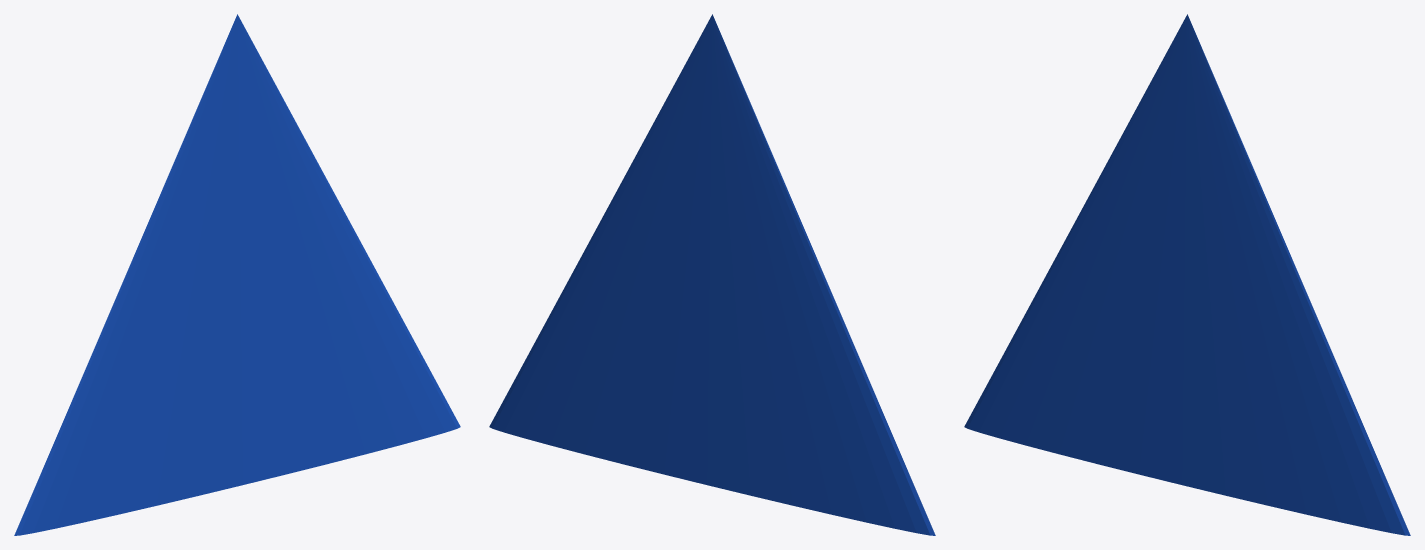
Rendered from ExportedBlenderFBXFile.fbx.
The picture shows the model from 3 angles, left to right: view 1: azimuth 30°, elevation 25°; view 2: azimuth 150°, elevation 25°; view 3: azimuth 330°, elevation 25°; orthographic projection.
Parts seen in each view (by area): view 1: Cone; view 2: Cone; view 3: Cone.
Boxes of the visible parts, left/top/right/bottom form: Cone: left=14, top=14, right=460, bottom=535; Cone: left=489, top=14, right=935, bottom=535; Cone: left=964, top=14, right=1410, bottom=535.
Size of the model in its own units: 1.94 by 1.94 by 0.0772.
